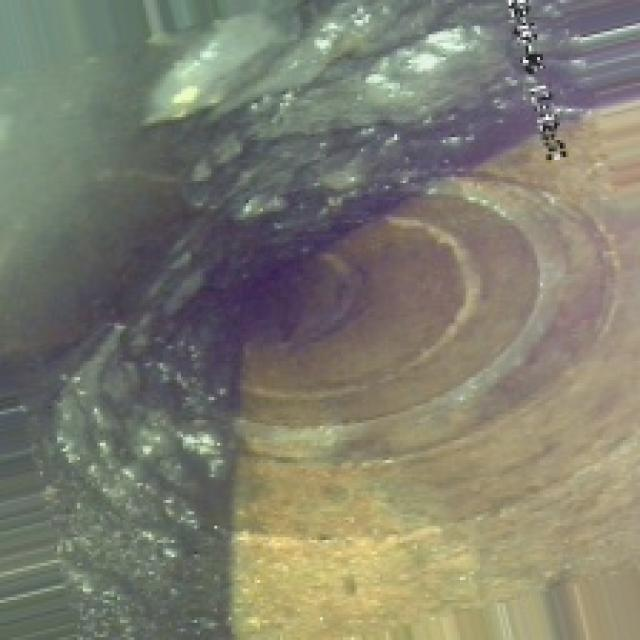sluge accumulation: (26, 17, 454, 629)
